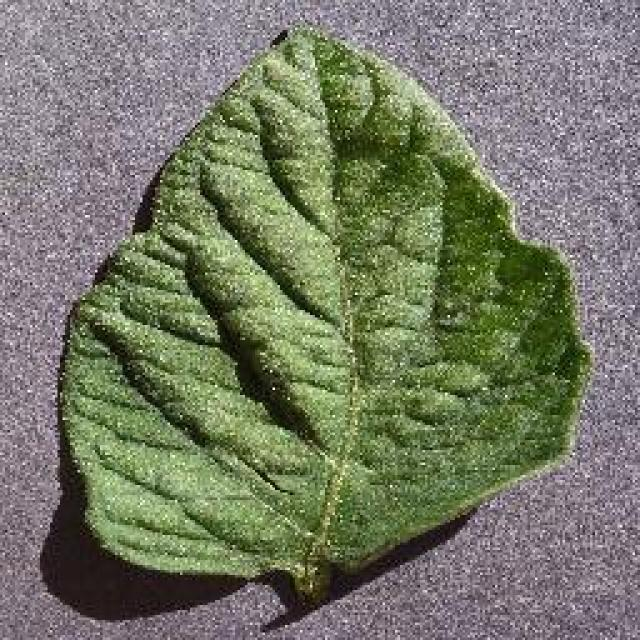Tomato___healthy: (53, 24, 594, 605)
